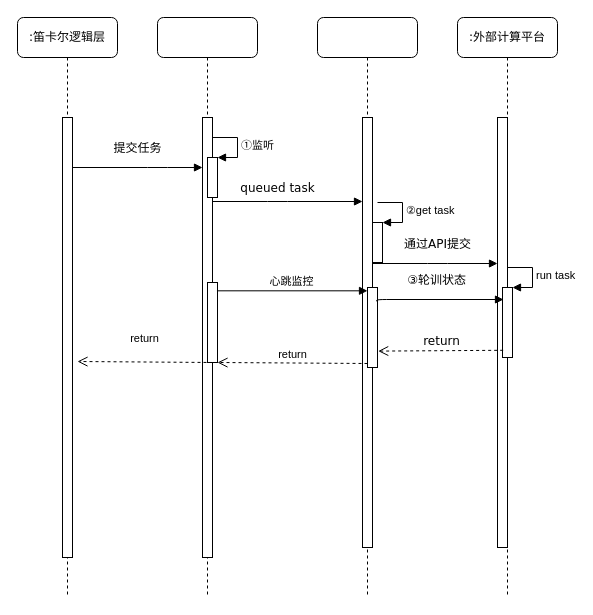
This 593x615 diagram has some shape labels left out. Each missing label, with the centre of its shape:
":Airflow Scheduler" goes at (207,307).
":Airflow Worker" goes at (367,307).
